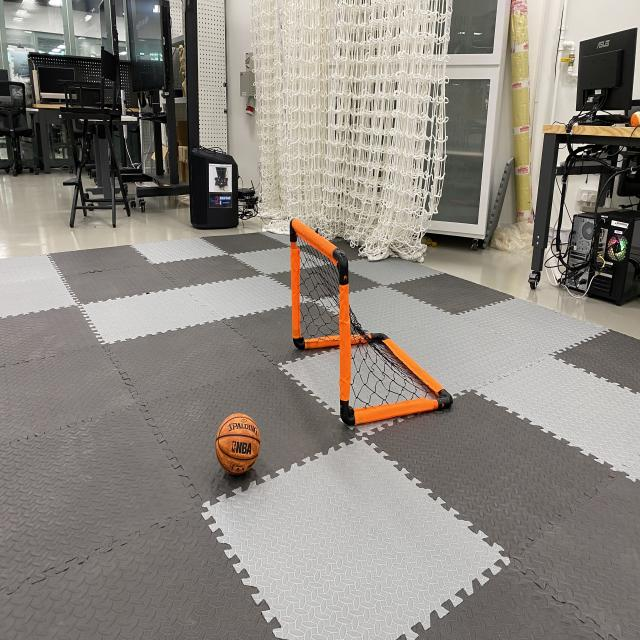ball: (211, 407, 265, 480)
gate: (285, 211, 457, 432)
